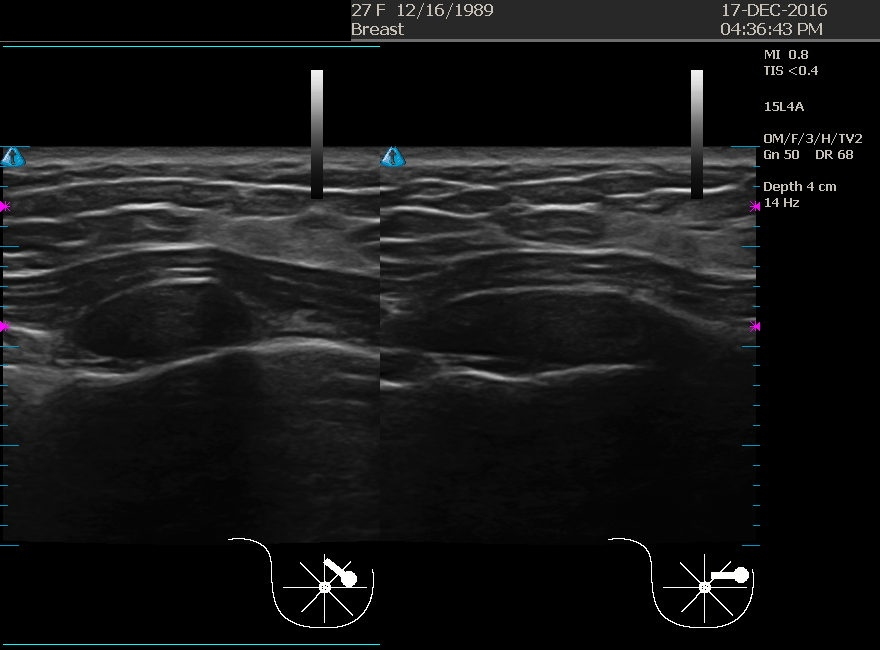BIRADS_2: (37, 152, 237, 353), (428, 150, 628, 350)
